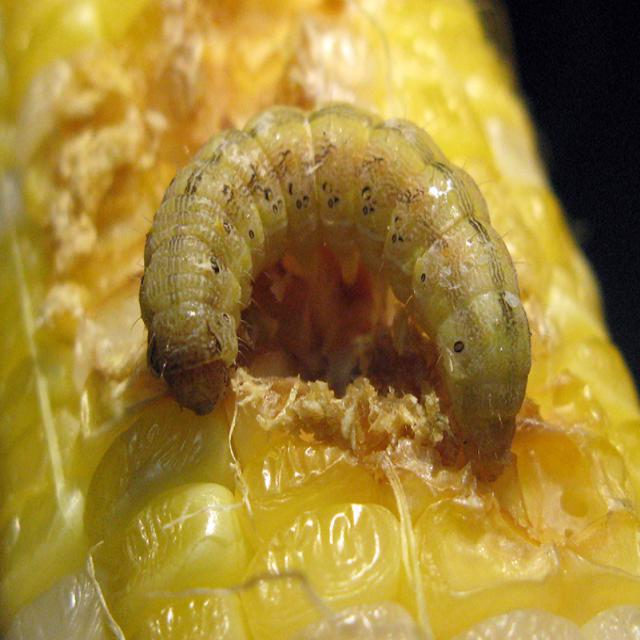Corn-earworm: (138, 96, 537, 468)
